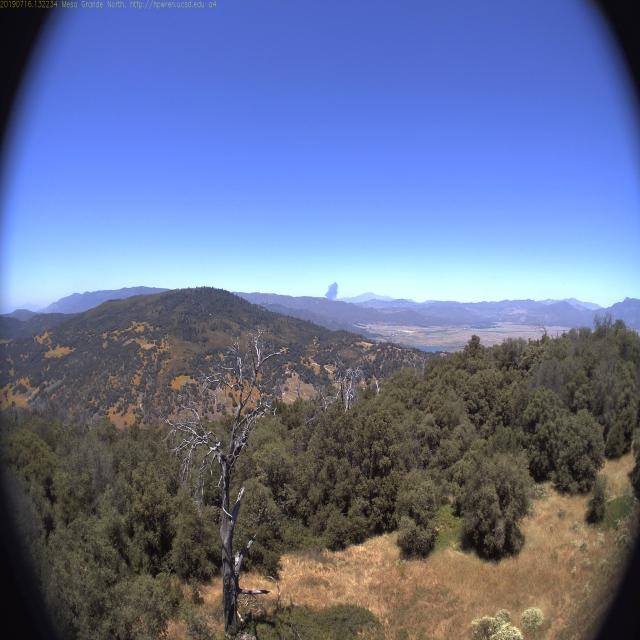smoke: (318, 272, 351, 312)
